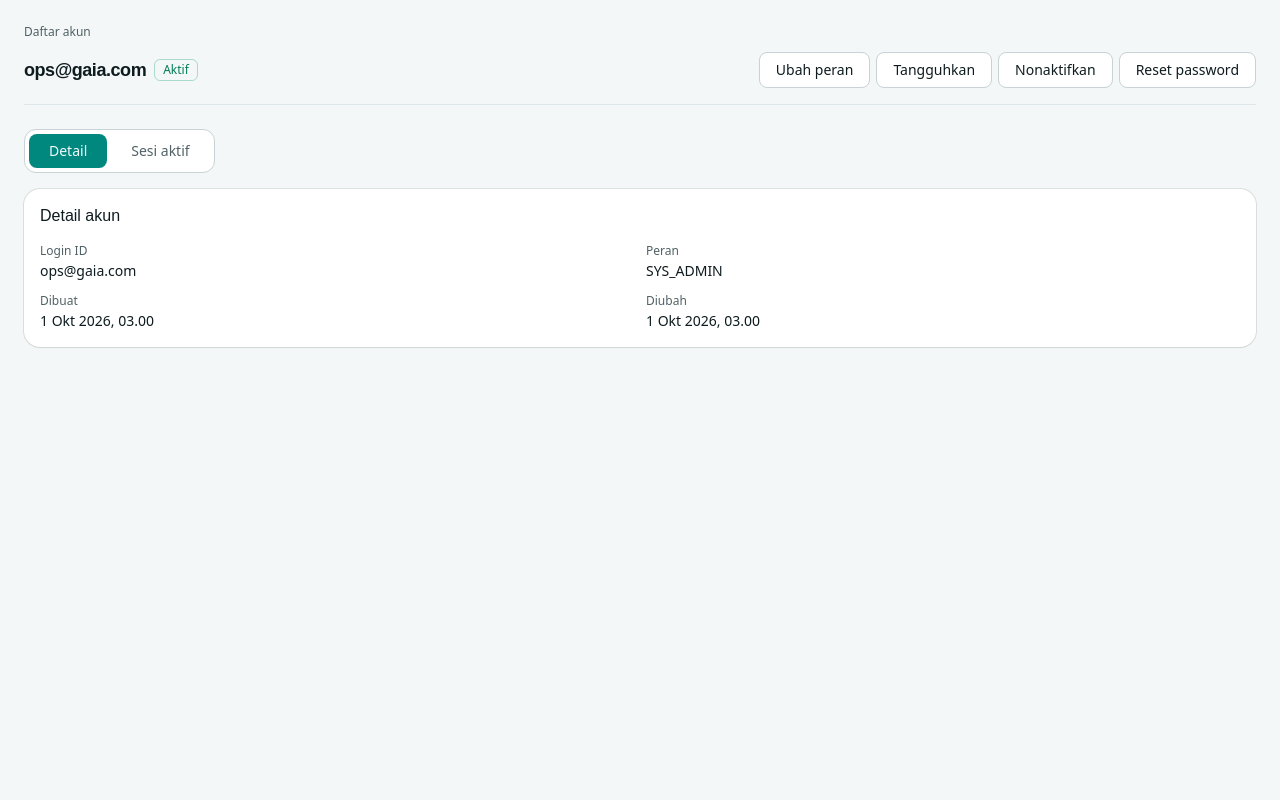
Test case: status transition visibility › after a suspend the detail refetches and shows the new status buttons
Check: the heading "ops@gaia.com" is shown, box [24,56,146,84]
Click the button "Tangguhkan".
click(934, 70)  # box [876,52,992,88]
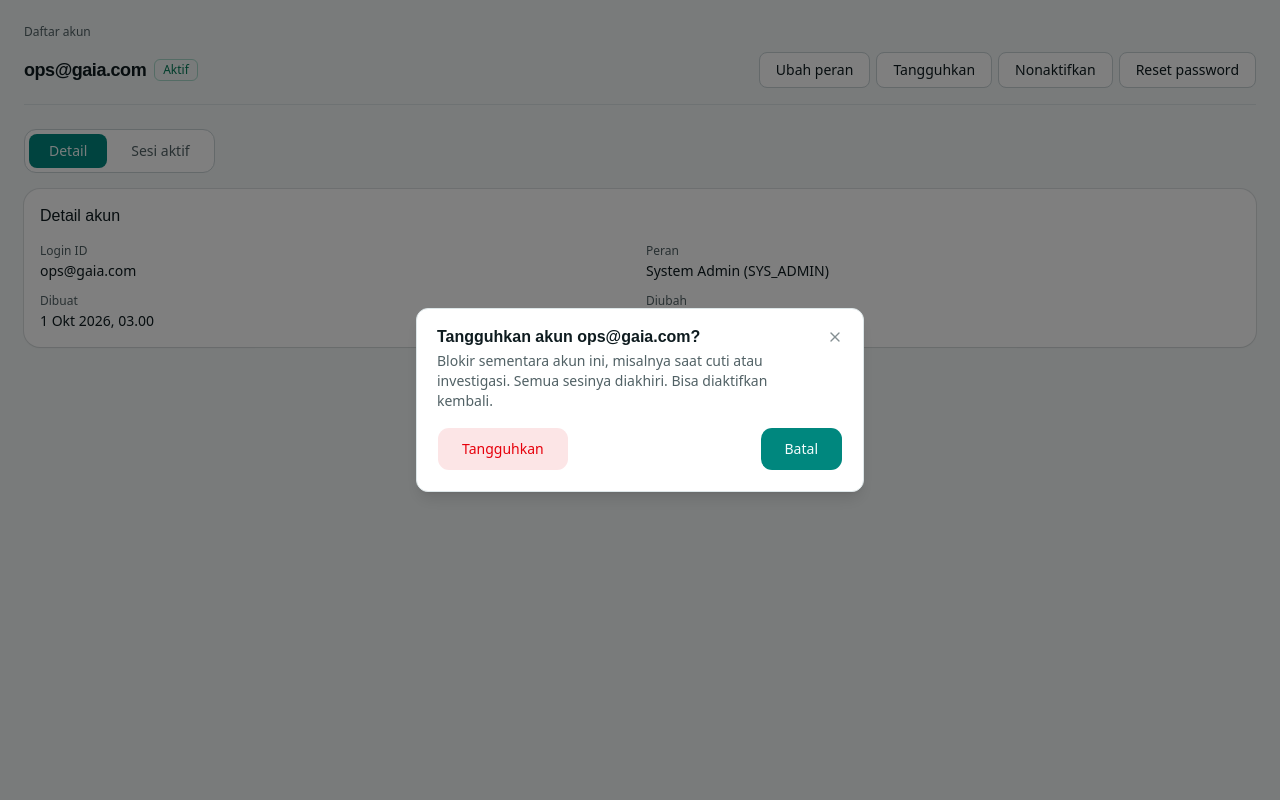
Click the button "Tangguhkan".
click(503, 449)  # box [437,427,569,471]
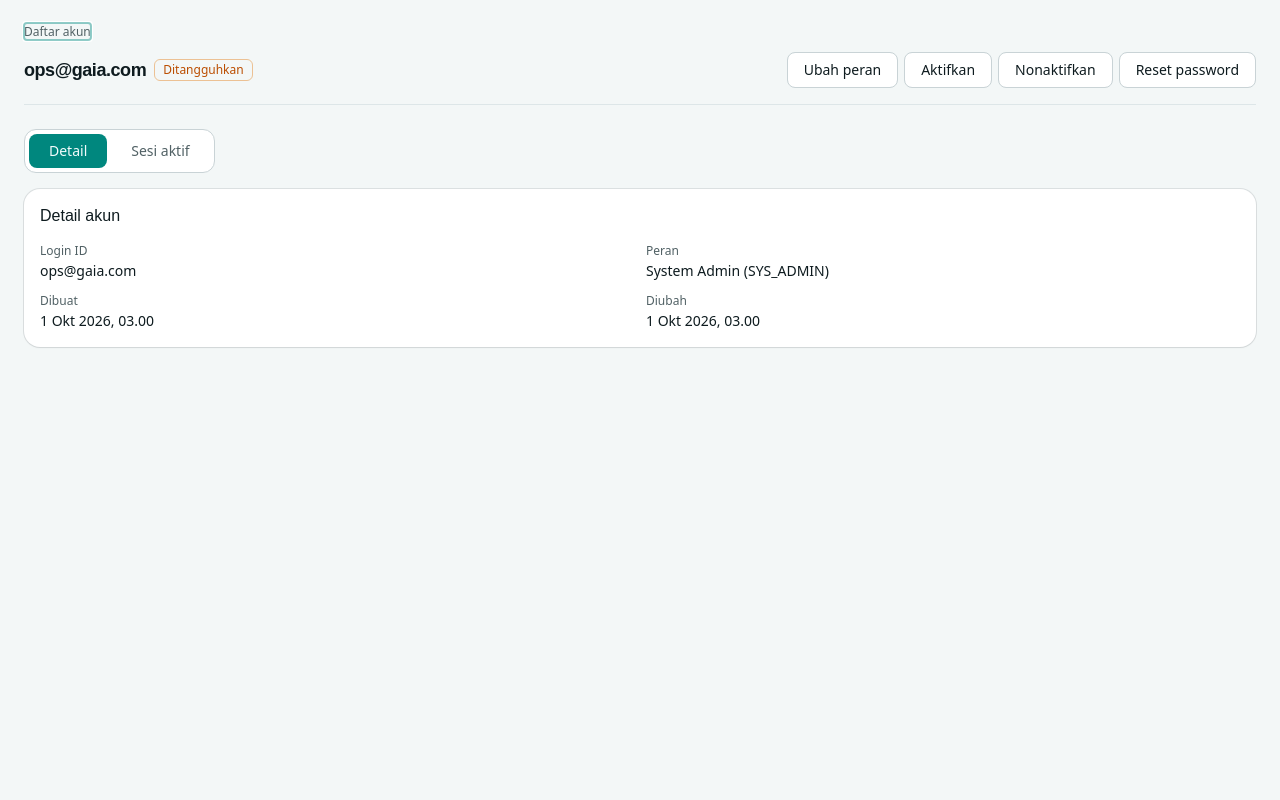
Check: the text "Ditangguhkan" is shown, box [154,59,253,81]
